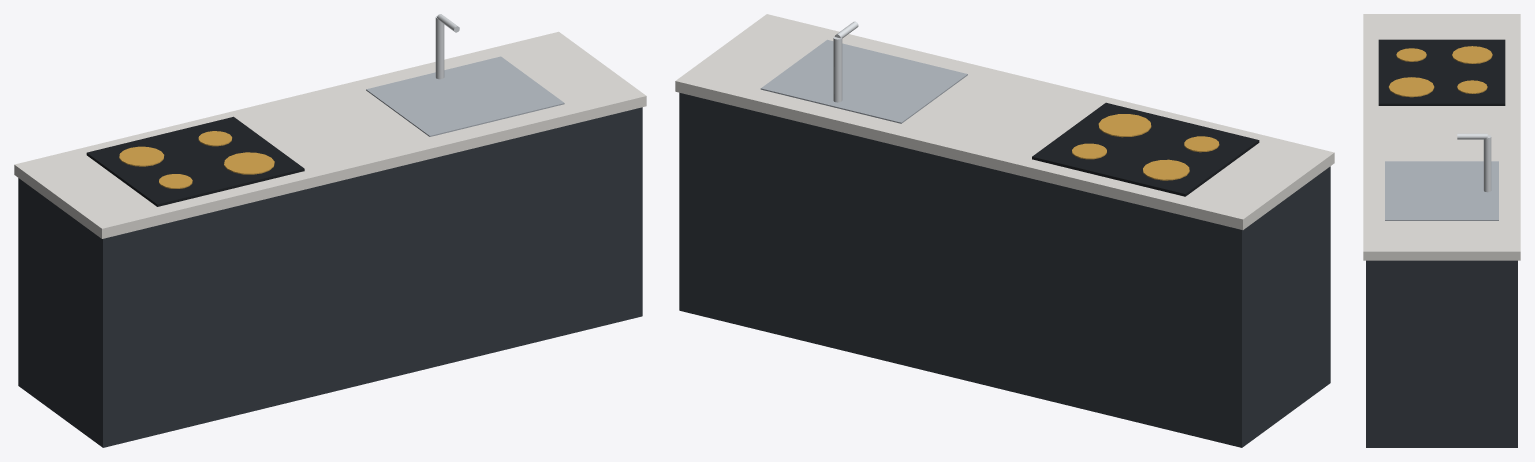
File: kitchen_counter.glb
The picture shows the model from 3 angles, left to right: view 1: azimuth 30°, elevation 25°; view 2: azimuth 150°, elevation 25°; view 3: azimuth 270°, elevation 25°; orthographic projection. The views are drawn at different scales.
Bounding box in the file's own units: 2.22 × 1.11 × 0.62.
